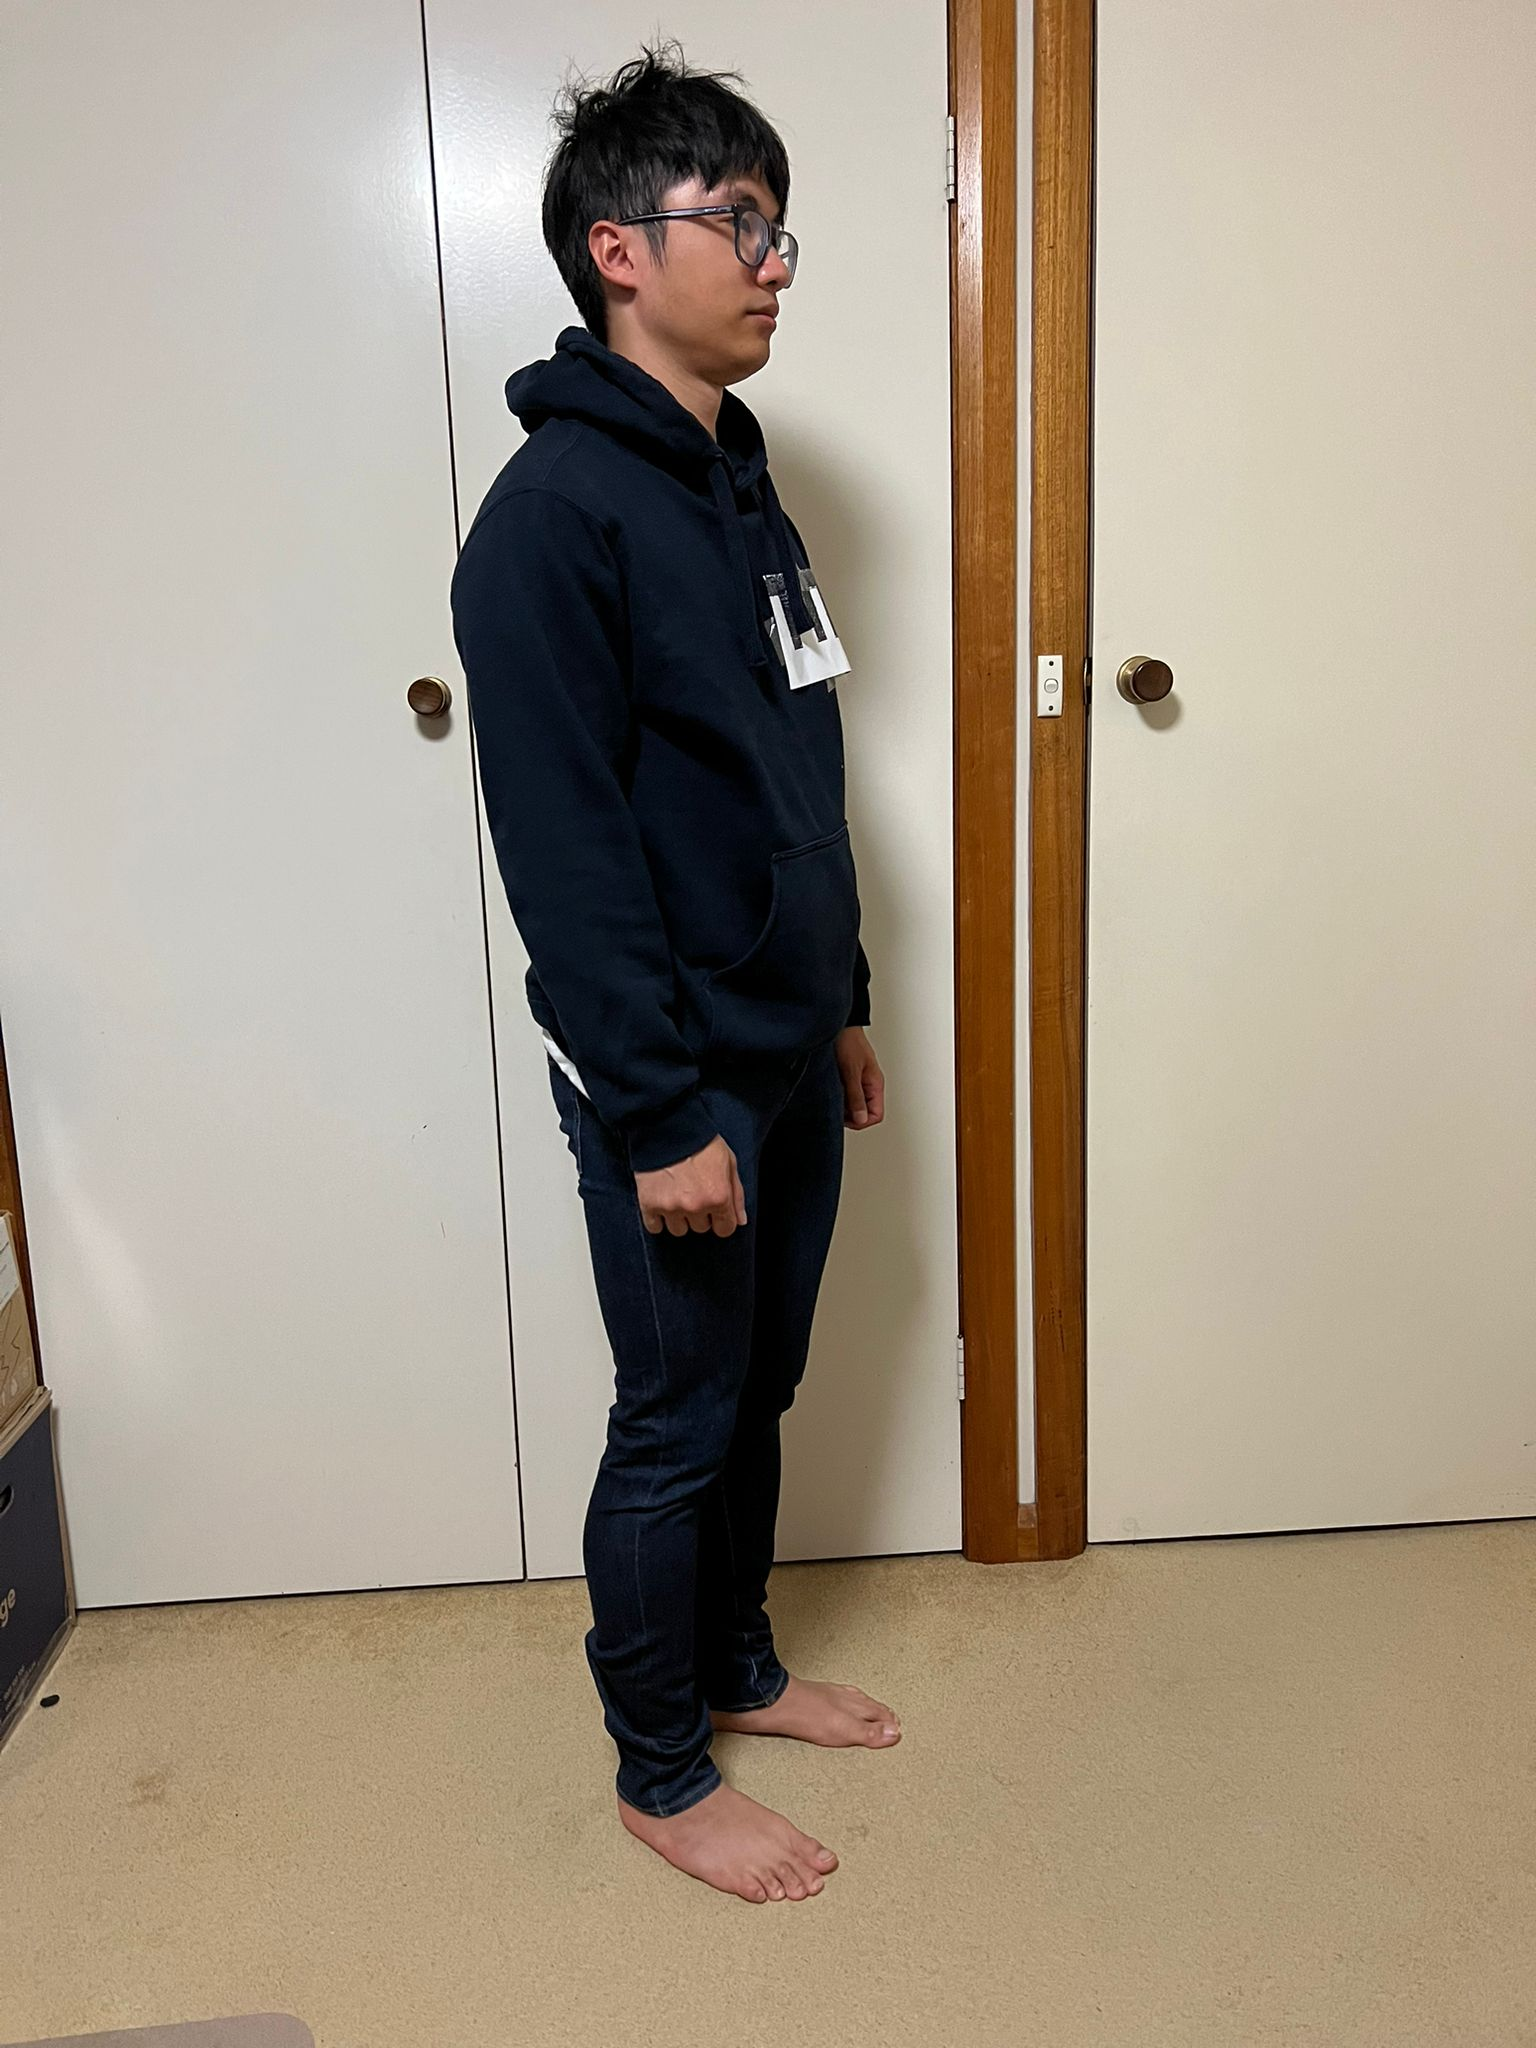Staff: (440, 40, 913, 1908)
